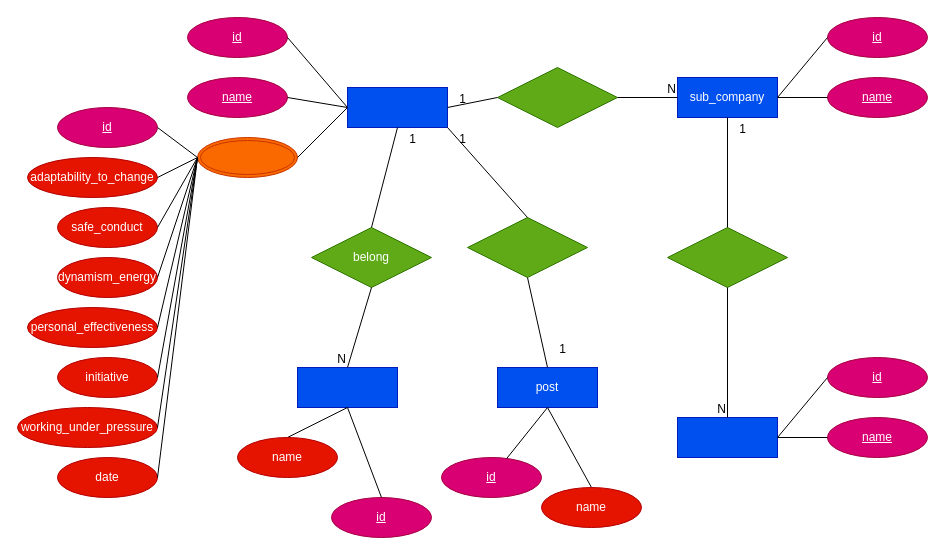
Image size: 945x555. Some labels were removed from this diagram. Each missing label, with the centre of its shape:
area: point 347,387
company: point 727,437
compose: point 727,257
corresponds: point 527,247
evaluations: point 247,157
user: point 397,107
Work to: point 557,97
